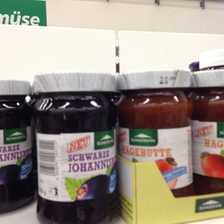jam: (32, 72, 121, 224), (117, 70, 195, 198), (1, 80, 34, 215), (191, 69, 224, 195)
